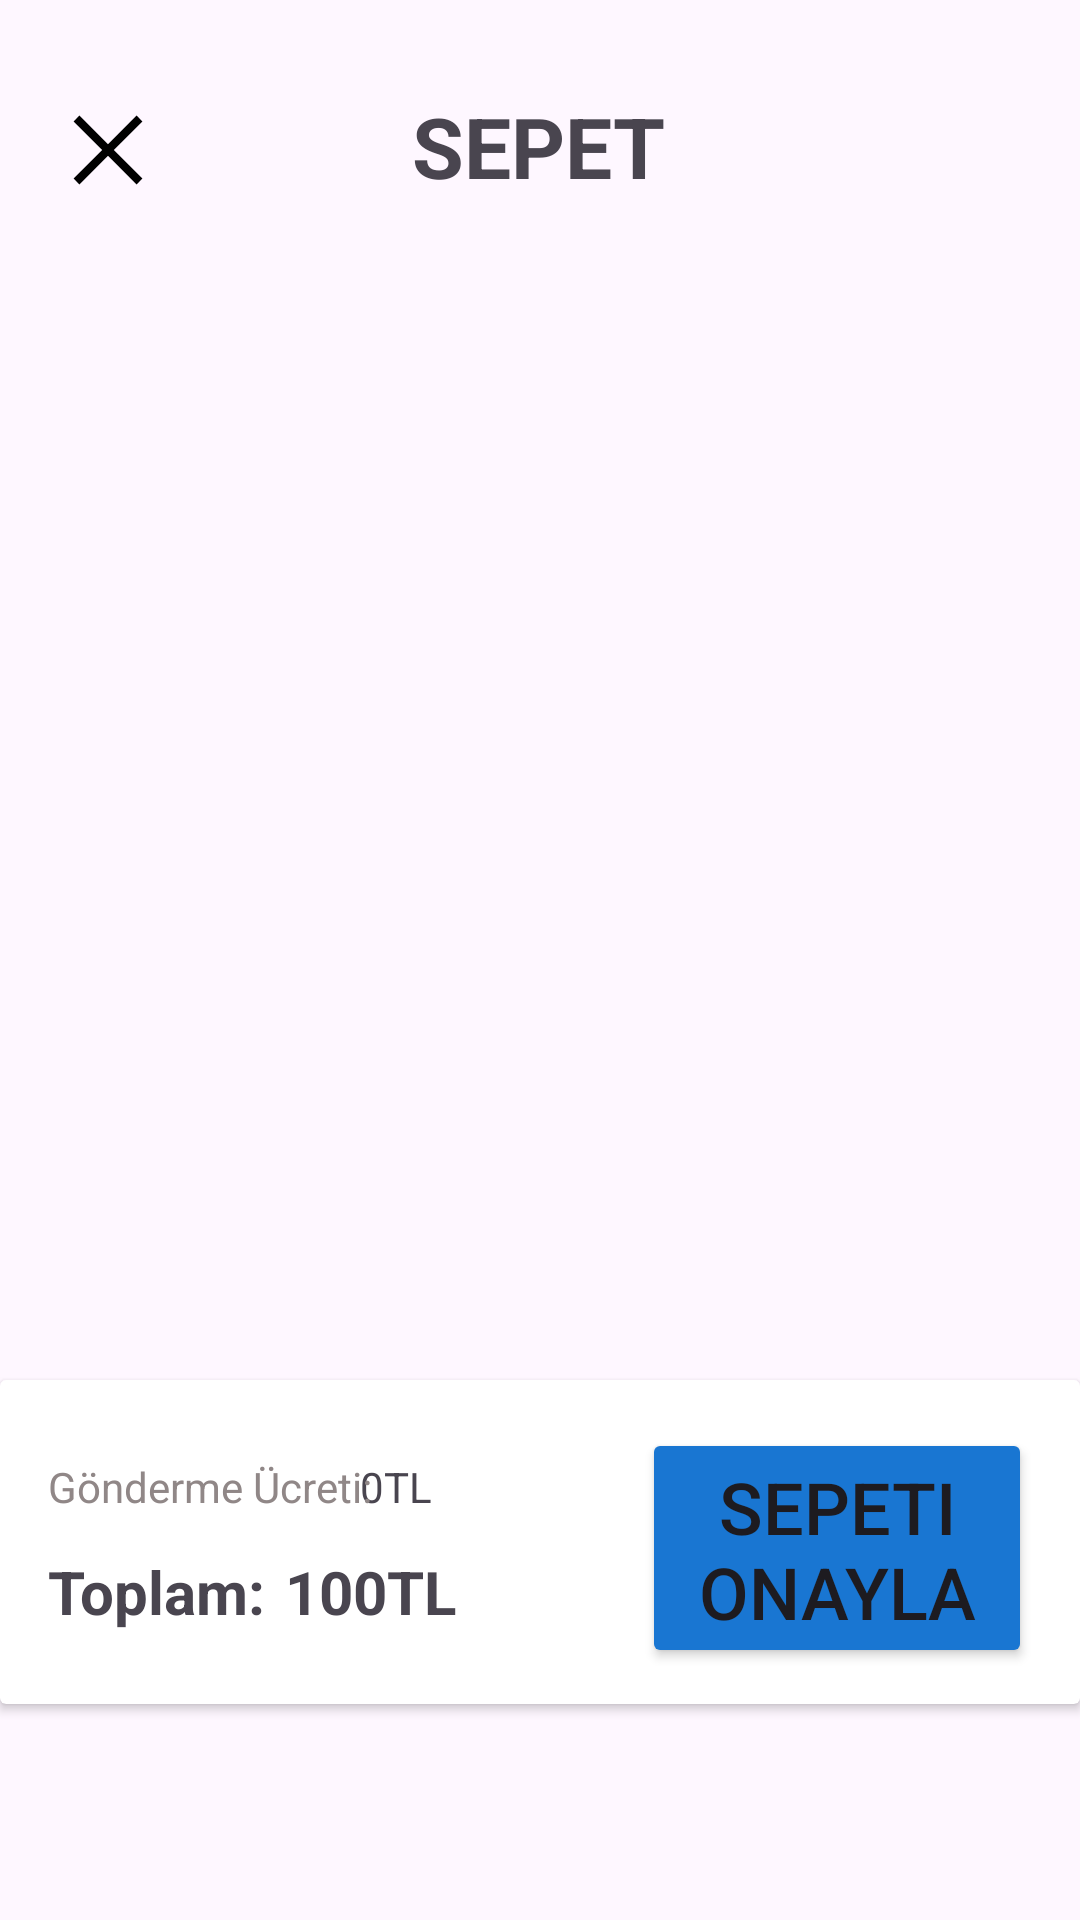

Icons on this 1080*1920 Android screen, each with the point to tap as (x=x, y=y):
close: (x=108, y=150)
